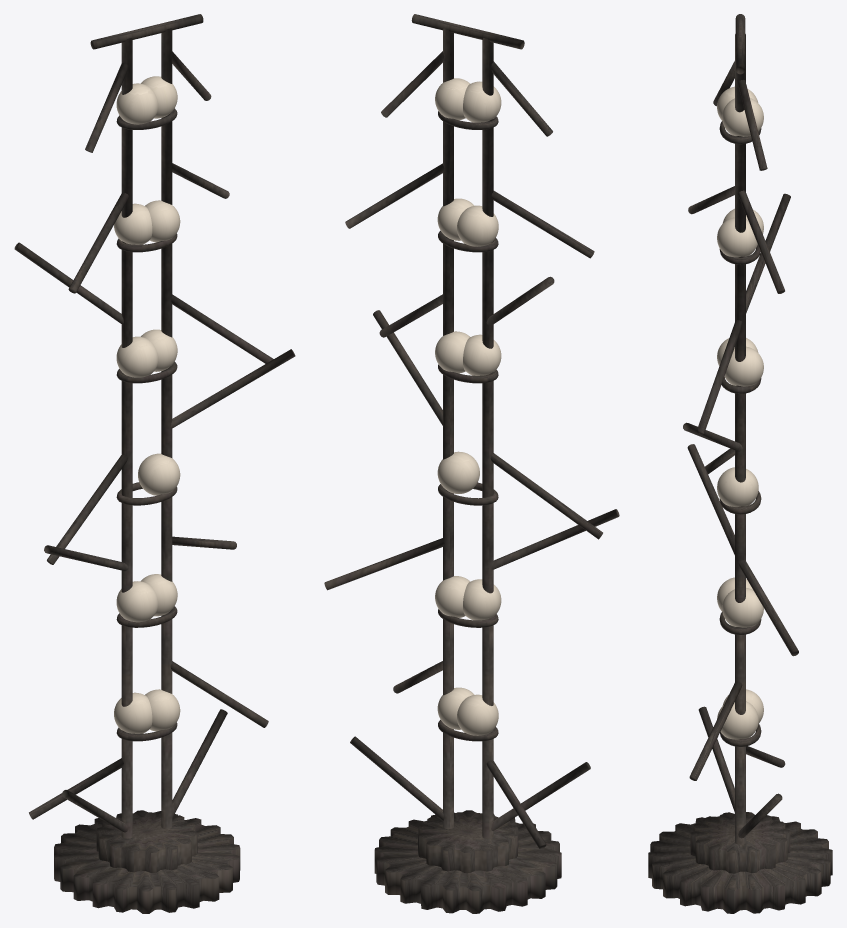
File: escultura-esc-039.glb
3 renders of one model, left to right at view 1: azimuth 30°, elevation 25°; view 2: azimuth 150°, elevation 25°; view 3: azimuth 270°, elevation 25°, orthographic.
Parts seen in each view (by area): view 1: world; view 2: world; view 3: world.
Boxes of the visible parts, x1=… form: world: x1=14, y1=14, x2=295, y2=913; world: x1=324, y1=14, x2=619, y2=913; world: x1=648, y1=14, x2=832, y2=913.
Size of the model in its own units: 0.3978 by 1.3 by 0.2603.
Materials: 1 (1 with a texture image).
